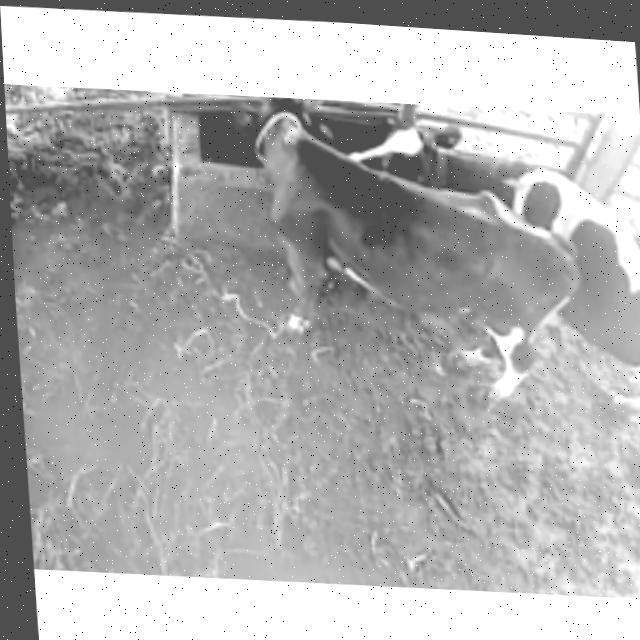drink: (330, 95, 492, 208), (225, 92, 336, 200)
